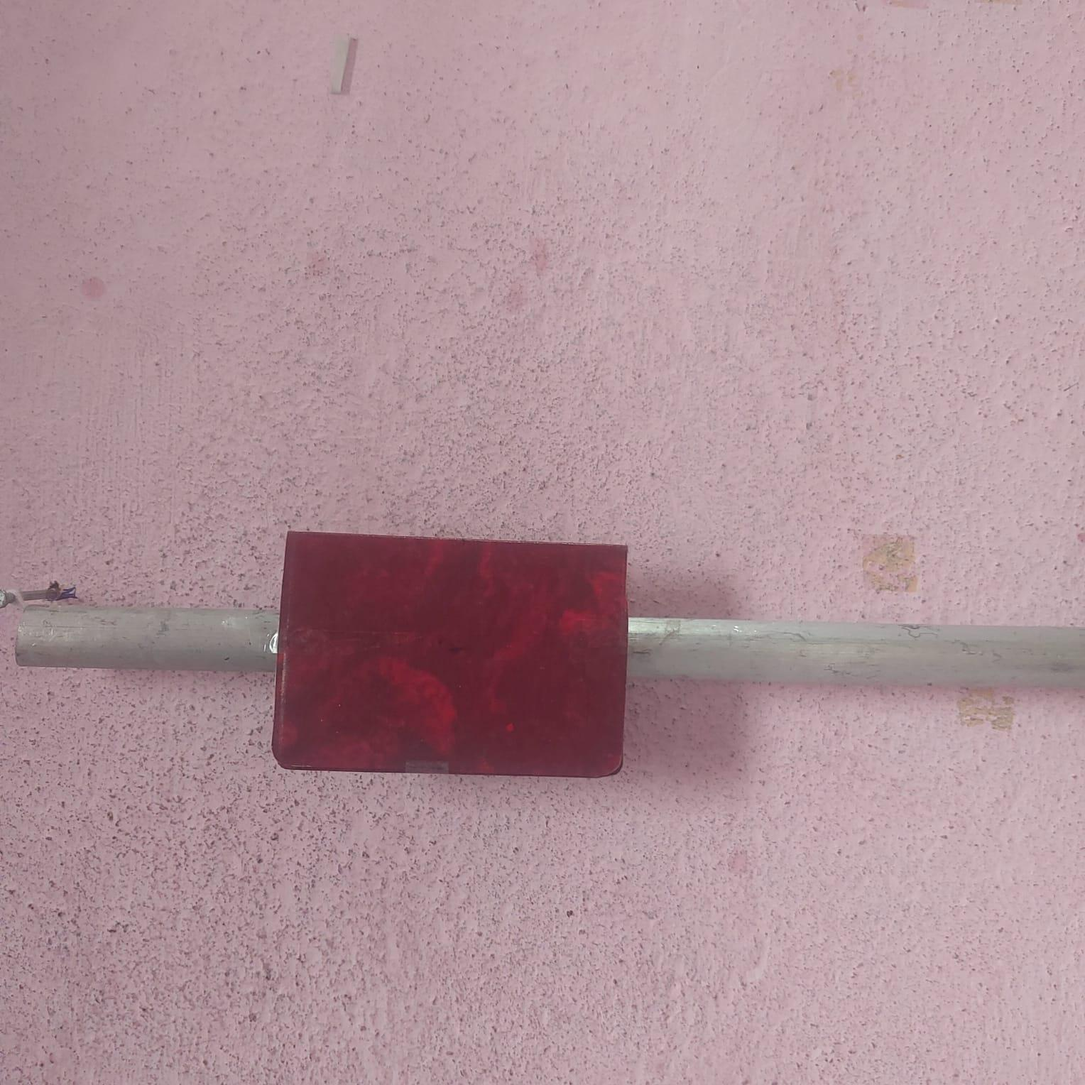wallet: (269, 529, 632, 782)
